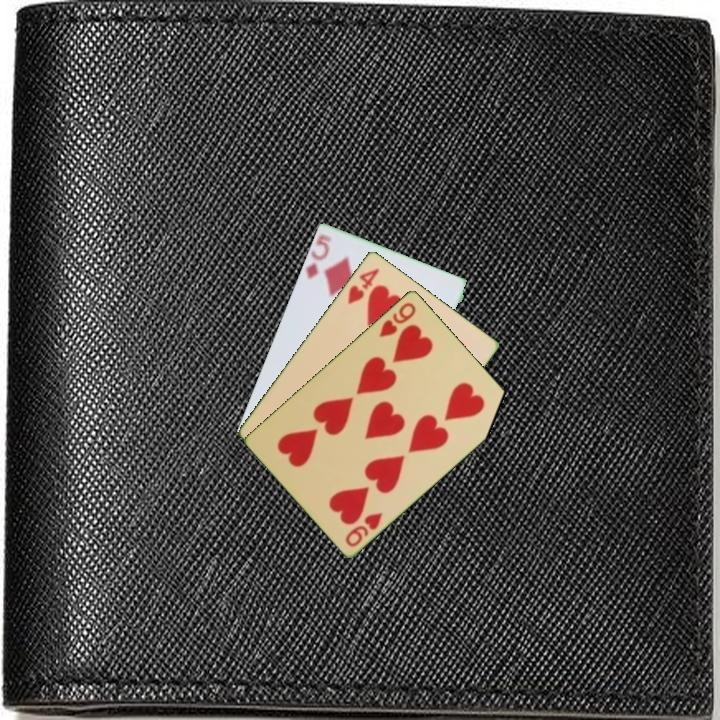4h: (344, 264, 382, 307)
5d: (302, 230, 333, 281)
9h: (376, 298, 419, 340), (342, 508, 385, 549)
